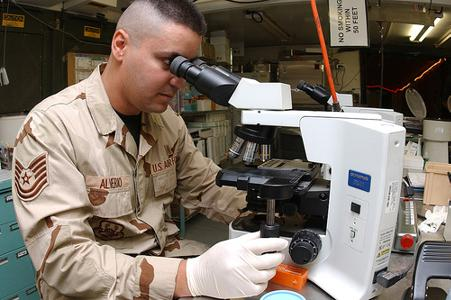person: (13, 5, 292, 300)
